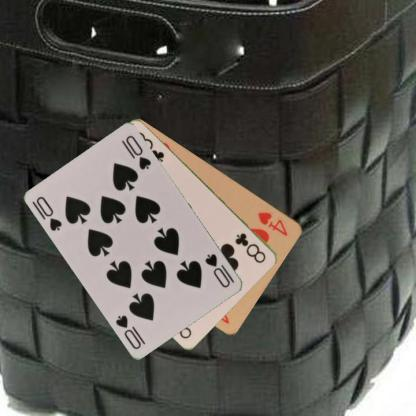10s: (202, 251, 236, 289), (34, 194, 64, 232)
4h: (255, 208, 289, 238)
8c: (233, 230, 267, 265)
